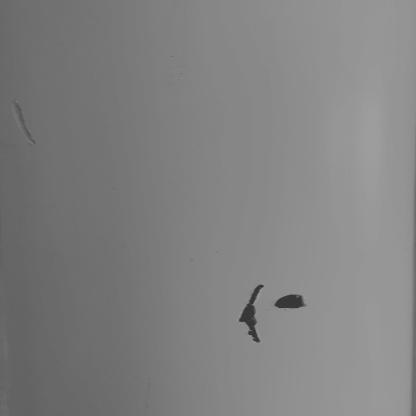kongdong: (239, 283, 268, 343), (272, 294, 309, 313)
sunshang: (10, 98, 37, 147)
